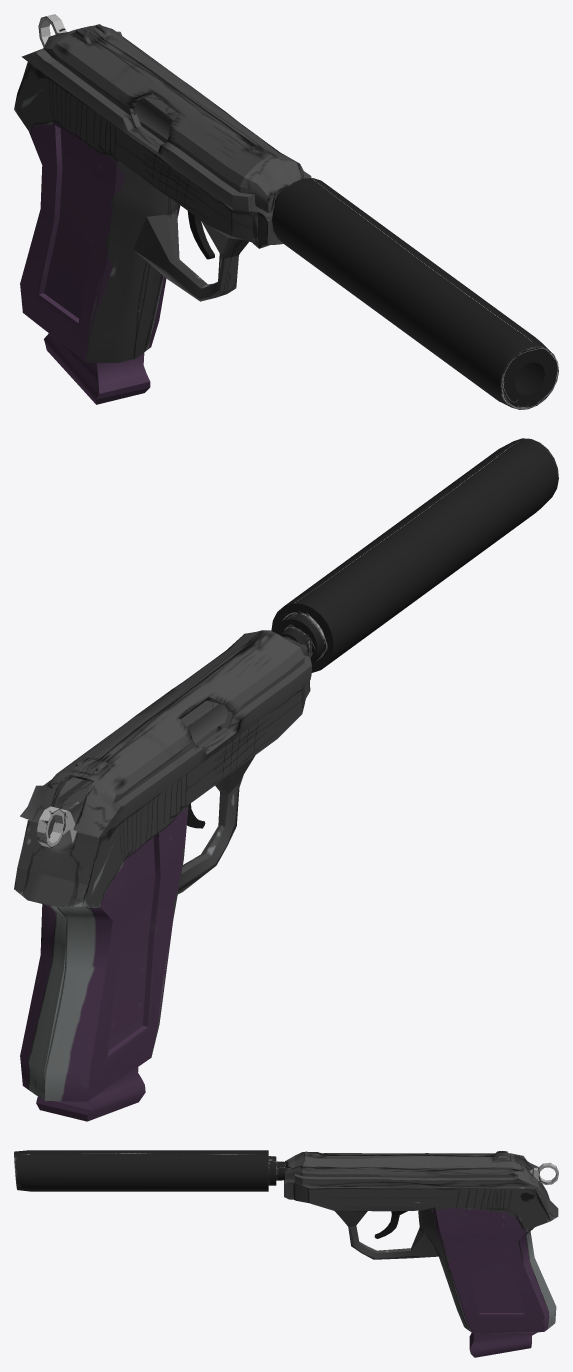
Rendered from Prop-PPK.fbx.
3 views of the same model, one above another, from view 1: azimuth 30°, elevation 25°; view 2: azimuth 150°, elevation 25°; view 3: azimuth 270°, elevation 25° (orthographic). The views are drawn at different scales.
Parts seen in each view (by area): view 1: Body_LowShape; view 2: Body_LowShape; view 3: Body_LowShape.
Part boxes in pixels (x1,y1,x2,y2): Body_LowShape: (14,14,558,409); Body_LowShape: (14,438,558,1121); Body_LowShape: (14,1150,558,1357).
Size of the model in its own units: 12.54 by 50.36 by 125.
5 materials, 5 textured.
